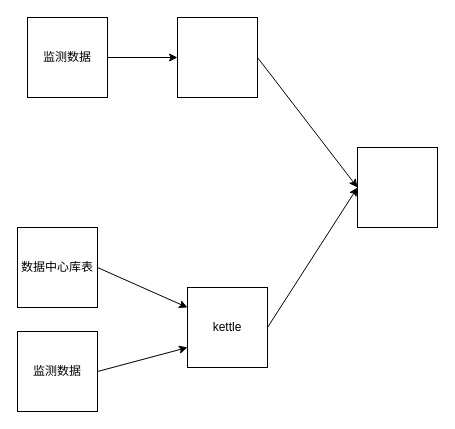
Image size: 455x429. Some labels were removed from this diagram. The shapes that lost their labels are listed below. From the top down, each one's box as (x1, y1, x2, y2) in pixels, then its label:
(176, 16, 258, 98): 同步服务器
(356, 146, 438, 228): 数仓
